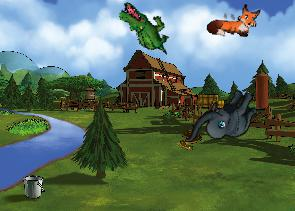crocodile: (110, 0, 179, 56)
elephant: (184, 76, 262, 162)
fox: (206, 0, 261, 40)
